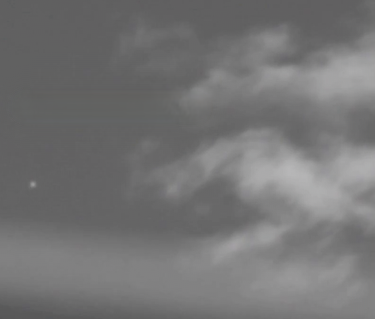Target: (31, 181, 35, 186)
